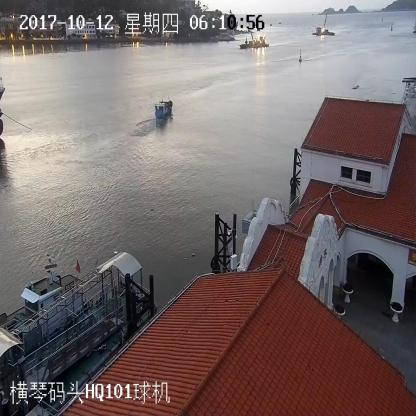Fishing Boat: (154, 100, 172, 118)
